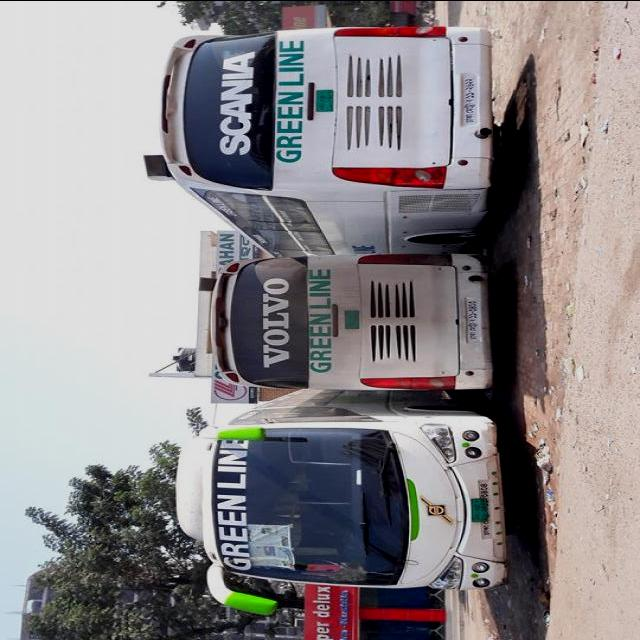bus: (172, 391, 511, 618), (161, 26, 495, 255), (210, 255, 495, 391)
